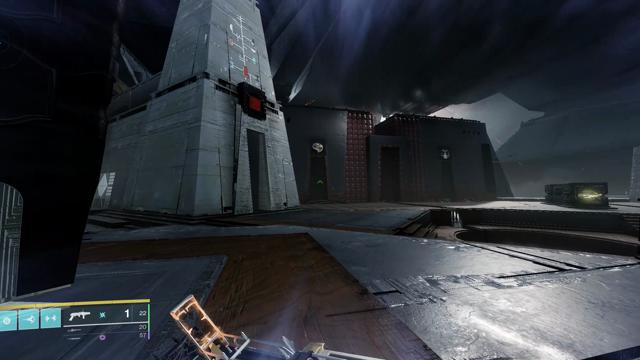brain: (311, 142, 325, 154)
drink: (440, 148, 451, 160)
stop: (246, 91, 263, 115)
